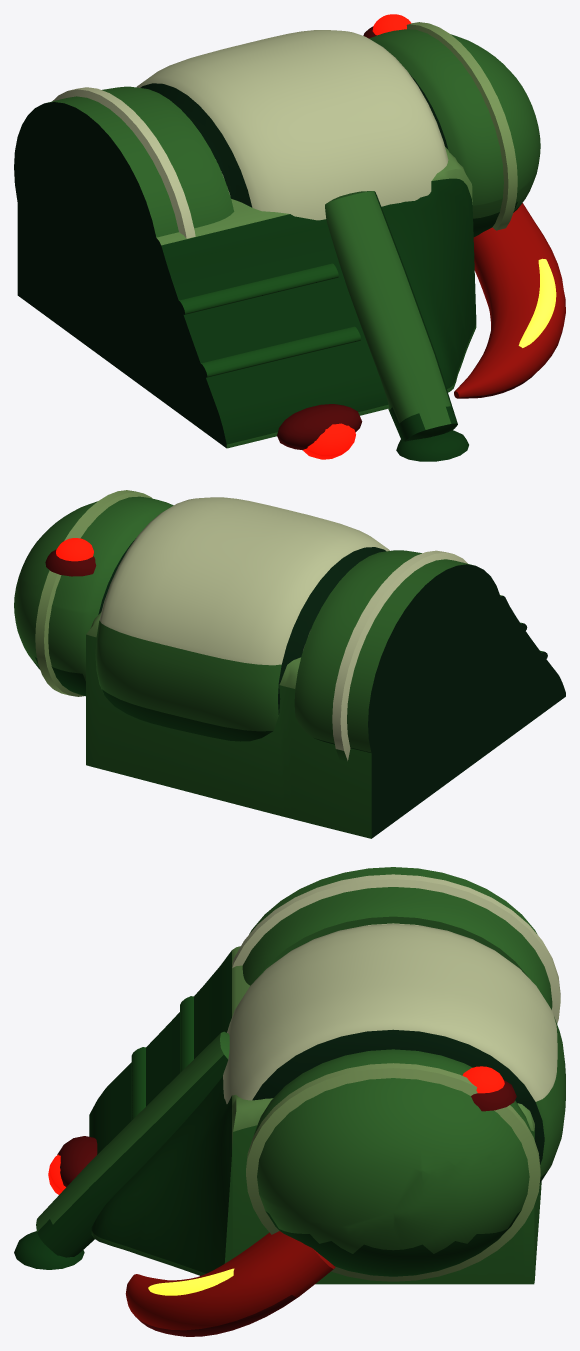
Rendered from green_skiff_l_rear.glb.
3 renders of one model, top to bottom at view 1: azimuth 30°, elevation 25°; view 2: azimuth 150°, elevation 25°; view 3: azimuth 270°, elevation 25°, orthographic. The views are drawn at different scales.
Visible parts, largest first — view 1: bow_m.001, pod_m.001, collar_m.001, strut_m.001, claw-1_m.001, cap_rib-1_m.001, collar_ring0_m.001, slat1_m.001, slat0_m.001, lamp_seat_m.001, strut_foot_m.001, slit-1_m.001 (+2 smaller); view 2: pod_m.001, bow_m.001, collar_m.001, collar_ring0_m.001, cap_rib-1_m.001, lamp_seat-1_m.001, lamp-1_m.001; view 3: pod_m.001, bow_m.001, collar_m.001, claw-1_m.001, strut_m.001, cap_rib-1_m.001, collar_ring0_m.001, strut_foot_m.001, lamp_seat_m.001, slit-1_m.001, slat1_m.001, slat0_m.001 (+2 smaller).
Boxes of the visible parts, box(x1,y1,x2,y2) form: bow_m.001: box(17, 140, 476, 448); pod_m.001: box(136, 29, 540, 236); collar_m.001: box(14, 86, 234, 339); strut_m.001: box(325, 191, 457, 441); claw-1_m.001: box(454, 203, 565, 398); cap_rib-1_m.001: box(406, 22, 517, 230); collar_ring0_m.001: box(52, 87, 195, 238); slat1_m.001: box(199, 326, 360, 377); slat0_m.001: box(179, 263, 338, 314); lamp_seat_m.001: box(277, 404, 362, 450); strut_foot_m.001: box(396, 430, 468, 461); slit-1_m.001: box(518, 258, 556, 347); pod_m.001: box(14, 496, 389, 741); bow_m.001: box(86, 595, 565, 838); collar_m.001: box(294, 550, 501, 785); collar_ring0_m.001: box(332, 550, 467, 761); cap_rib-1_m.001: box(35, 490, 152, 696); lamp_seat-1_m.001: box(45, 549, 96, 576); lamp-1_m.001: box(56, 538, 93, 561); pod_m.001: box(223, 923, 565, 1276); bow_m.001: box(89, 946, 541, 1284); collar_m.001: box(242, 867, 552, 1009); claw-1_m.001: box(125, 1231, 335, 1336); strut_m.001: box(36, 1031, 229, 1257); cap_rib-1_m.001: box(246, 1063, 540, 1281); collar_ring0_m.001: box(232, 874, 560, 1023); strut_foot_m.001: box(14, 1231, 84, 1269); lamp_seat_m.001: box(57, 1136, 97, 1187); slit-1_m.001: box(148, 1268, 234, 1295); slat1_m.001: box(131, 1047, 145, 1120); slat0_m.001: box(180, 996, 193, 1072).
Bounding box in the file's own units: 23.1 × 13.86 × 23.43.
